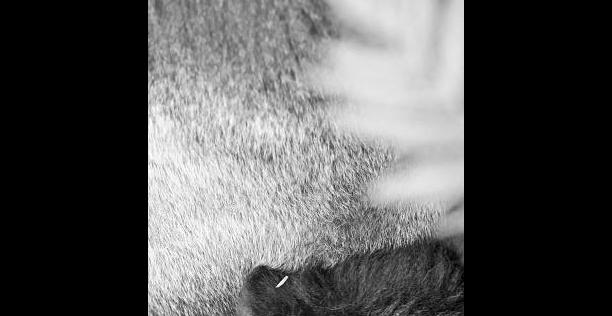goriile_montagne: (148, 252, 464, 316)
